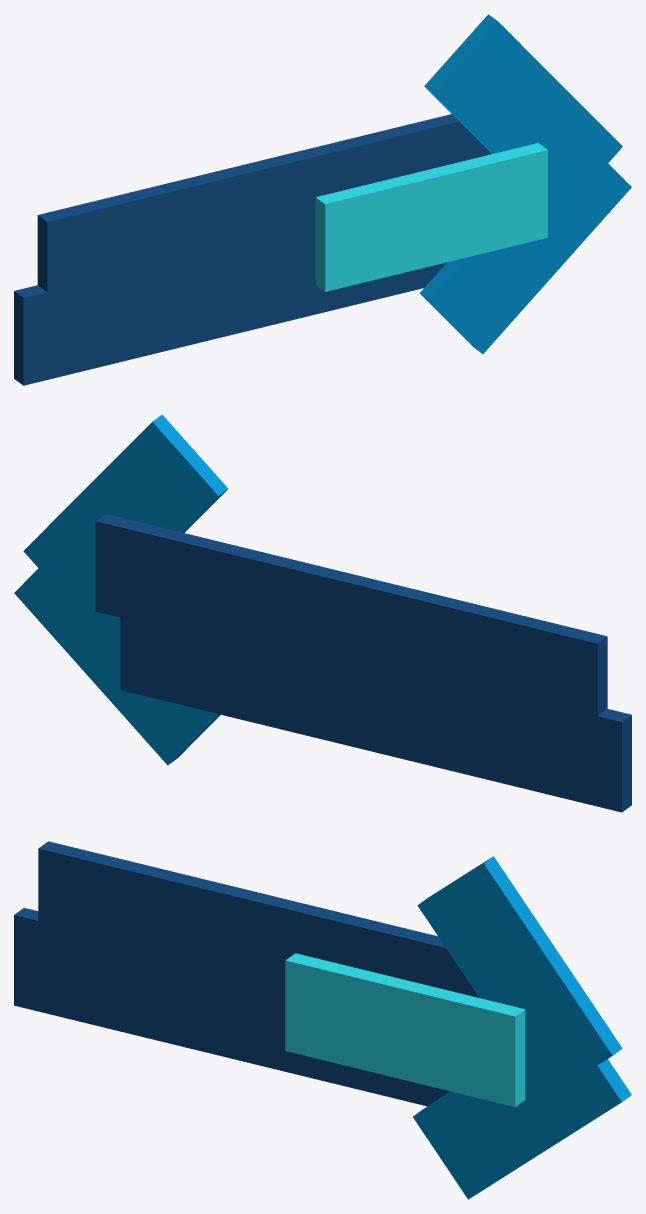
File: sign_arrow.fbx
3 renders of one model, top to bottom at view 1: azimuth 30°, elevation 25°; view 2: azimuth 150°, elevation 25°; view 3: azimuth 330°, elevation 25°, orthographic. The views are drawn at different scales.
Visible parts, largest first — view 1: Plane.005; view 2: Plane.005; view 3: Plane.005.
Part boxes in pixels (box(x1,y1,x2,y2)): Plane.005: box(14, 14, 631, 385); Plane.005: box(14, 414, 631, 812); Plane.005: box(14, 841, 631, 1199).
Size of the model in its own units: 357 by 188 by 30.
